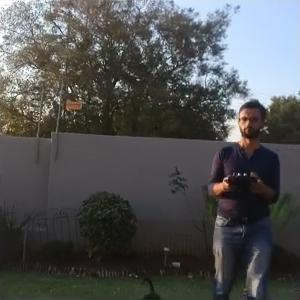follow: (202, 100, 280, 298)
